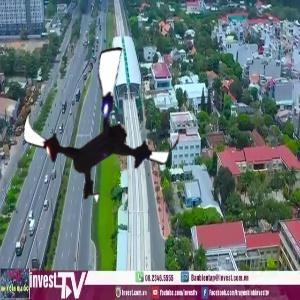drone: (19, 46, 184, 211)
